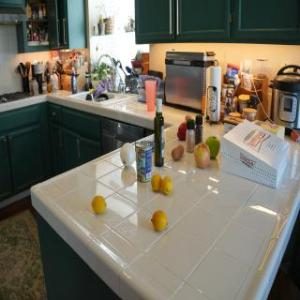bell_pepper: (177, 121, 187, 141)
egg: (172, 147, 180, 161), (177, 144, 183, 156)
onion: (121, 142, 135, 168)
